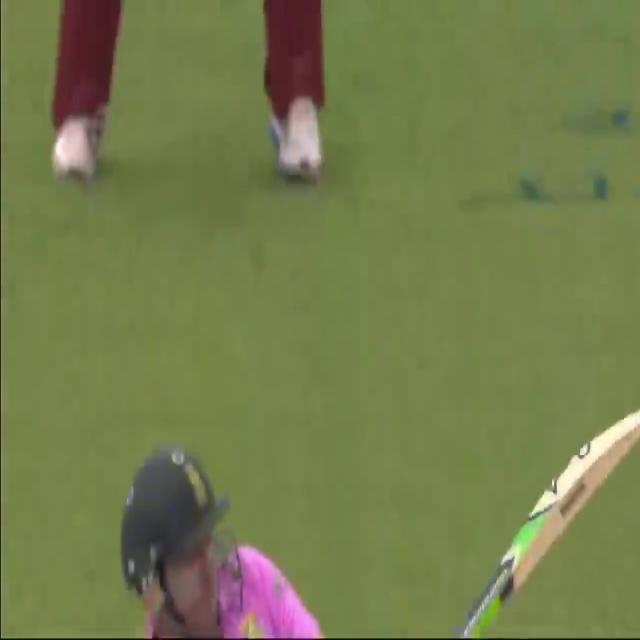Ball: (108, 415, 416, 636)
Fielder: (40, 0, 361, 195)
